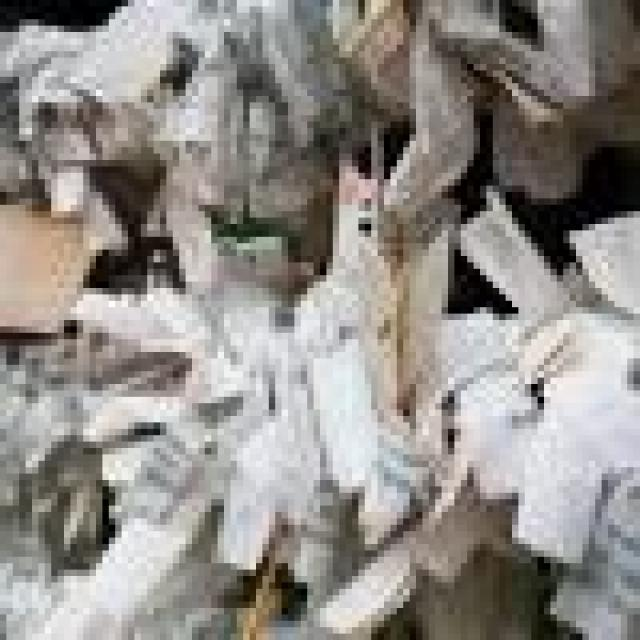Paper -Biodegradable-: (2, 0, 640, 640)
